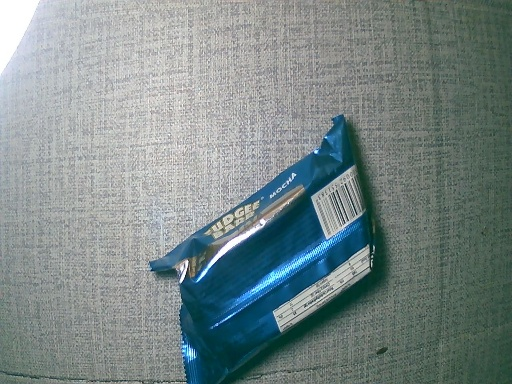plastic: (148, 115, 376, 384)
